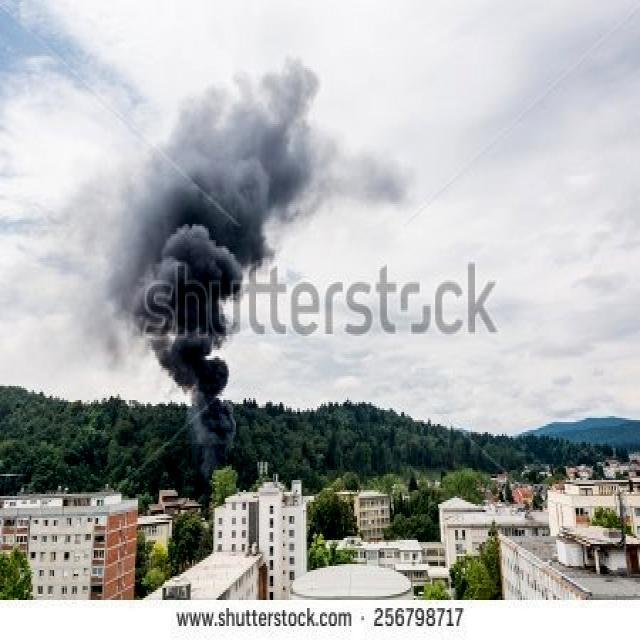Smoke: (96, 49, 312, 466)
